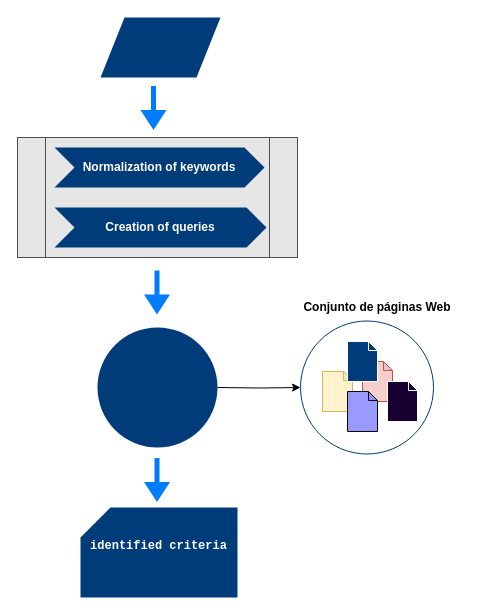
The diagram is 480 pixels wide and 614 high, and some of its shapes have lost their labels. Here are the shapes that lost their labels. From the top down, the centre of each, then its label:
At point (160, 47): "Data".
At point (157, 387): "BFS".
